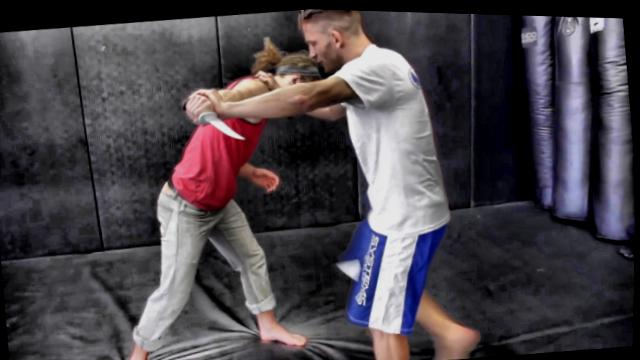knife: (176, 85, 253, 150)
